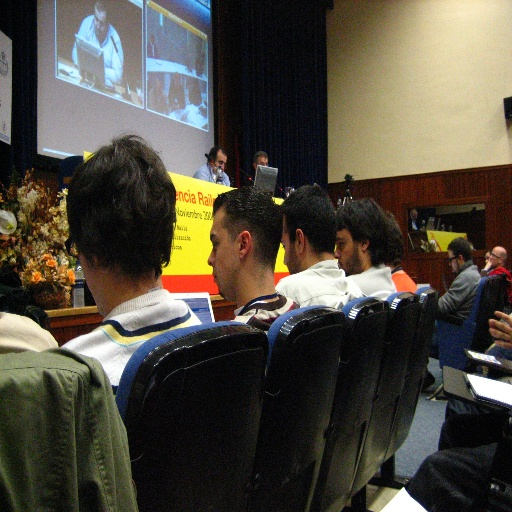hand: (488, 310, 511, 353), (485, 256, 494, 270)
